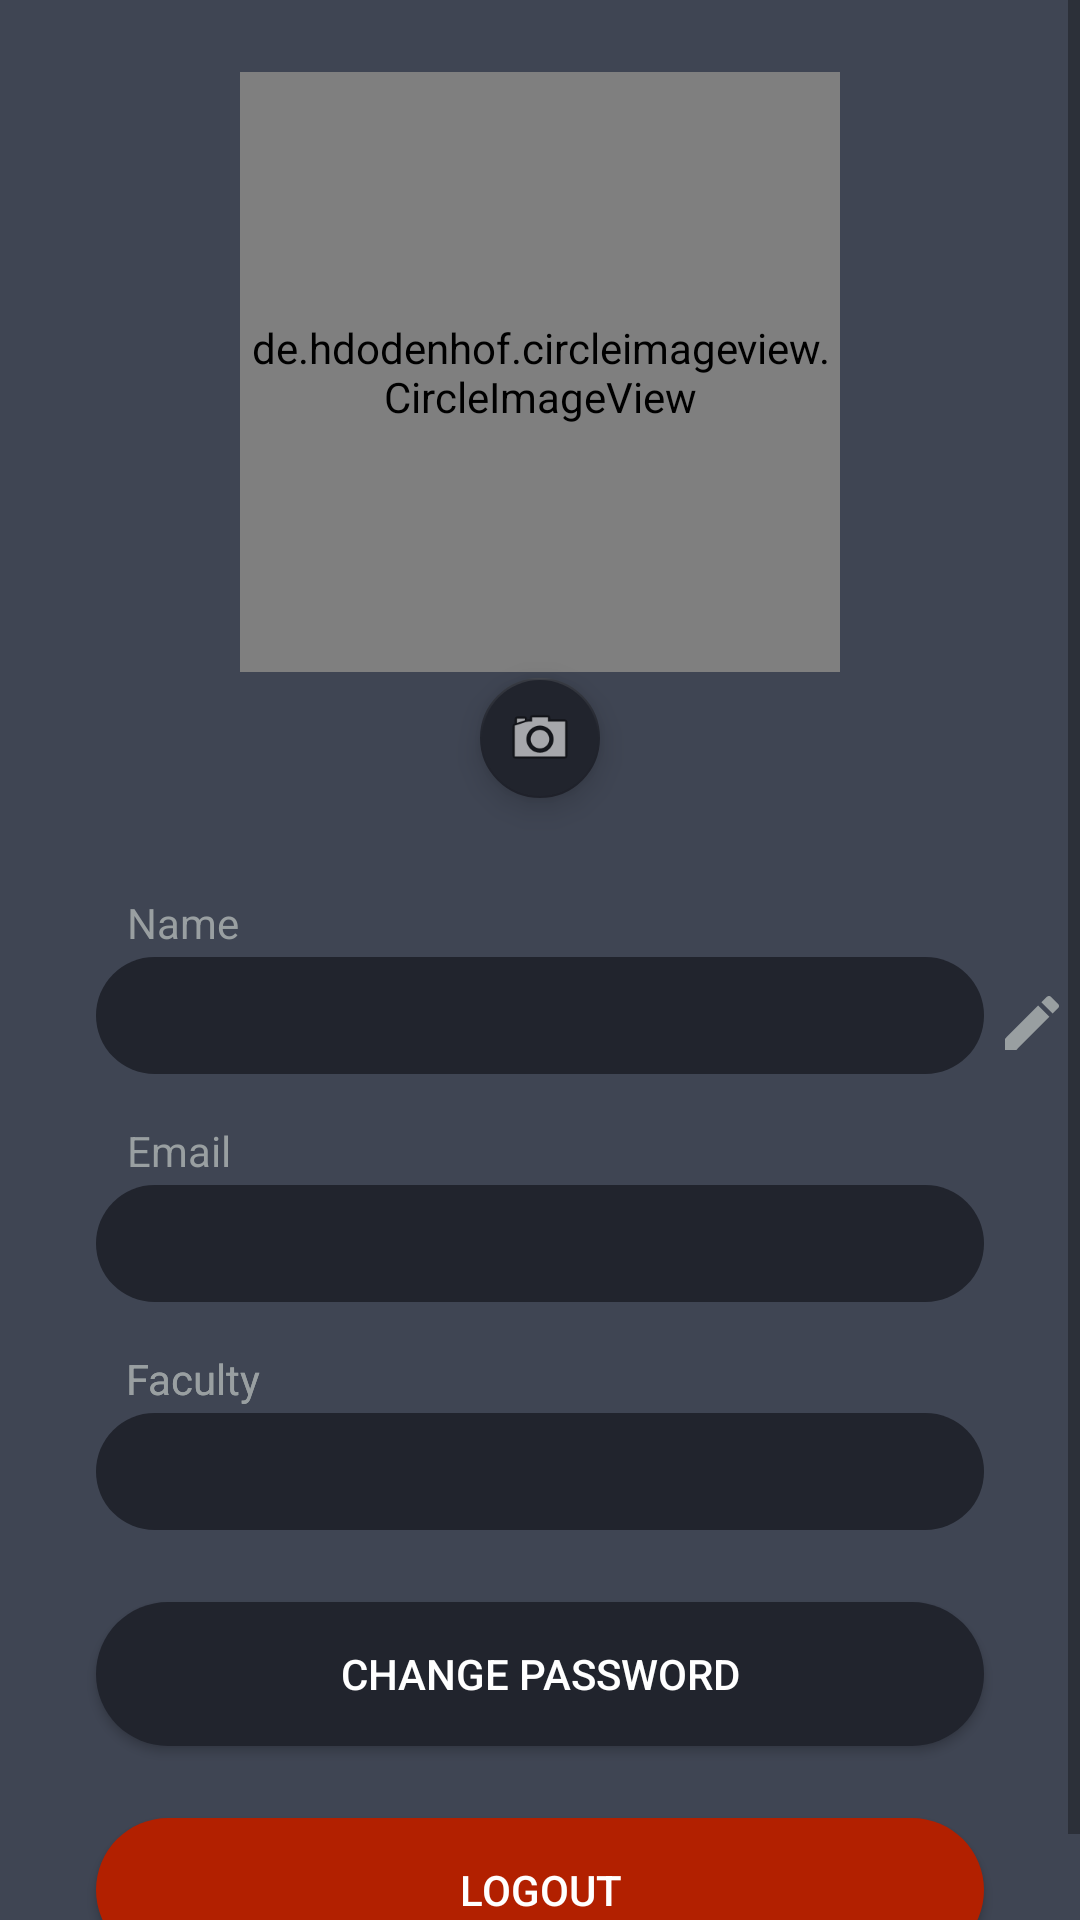

Locate icon controls on the screen. Image size 1080 x 1920, boxes as (x1, y1, x2, y2).
camera: (480, 680, 600, 798)
mode edit: (1005, 996, 1059, 1050)
